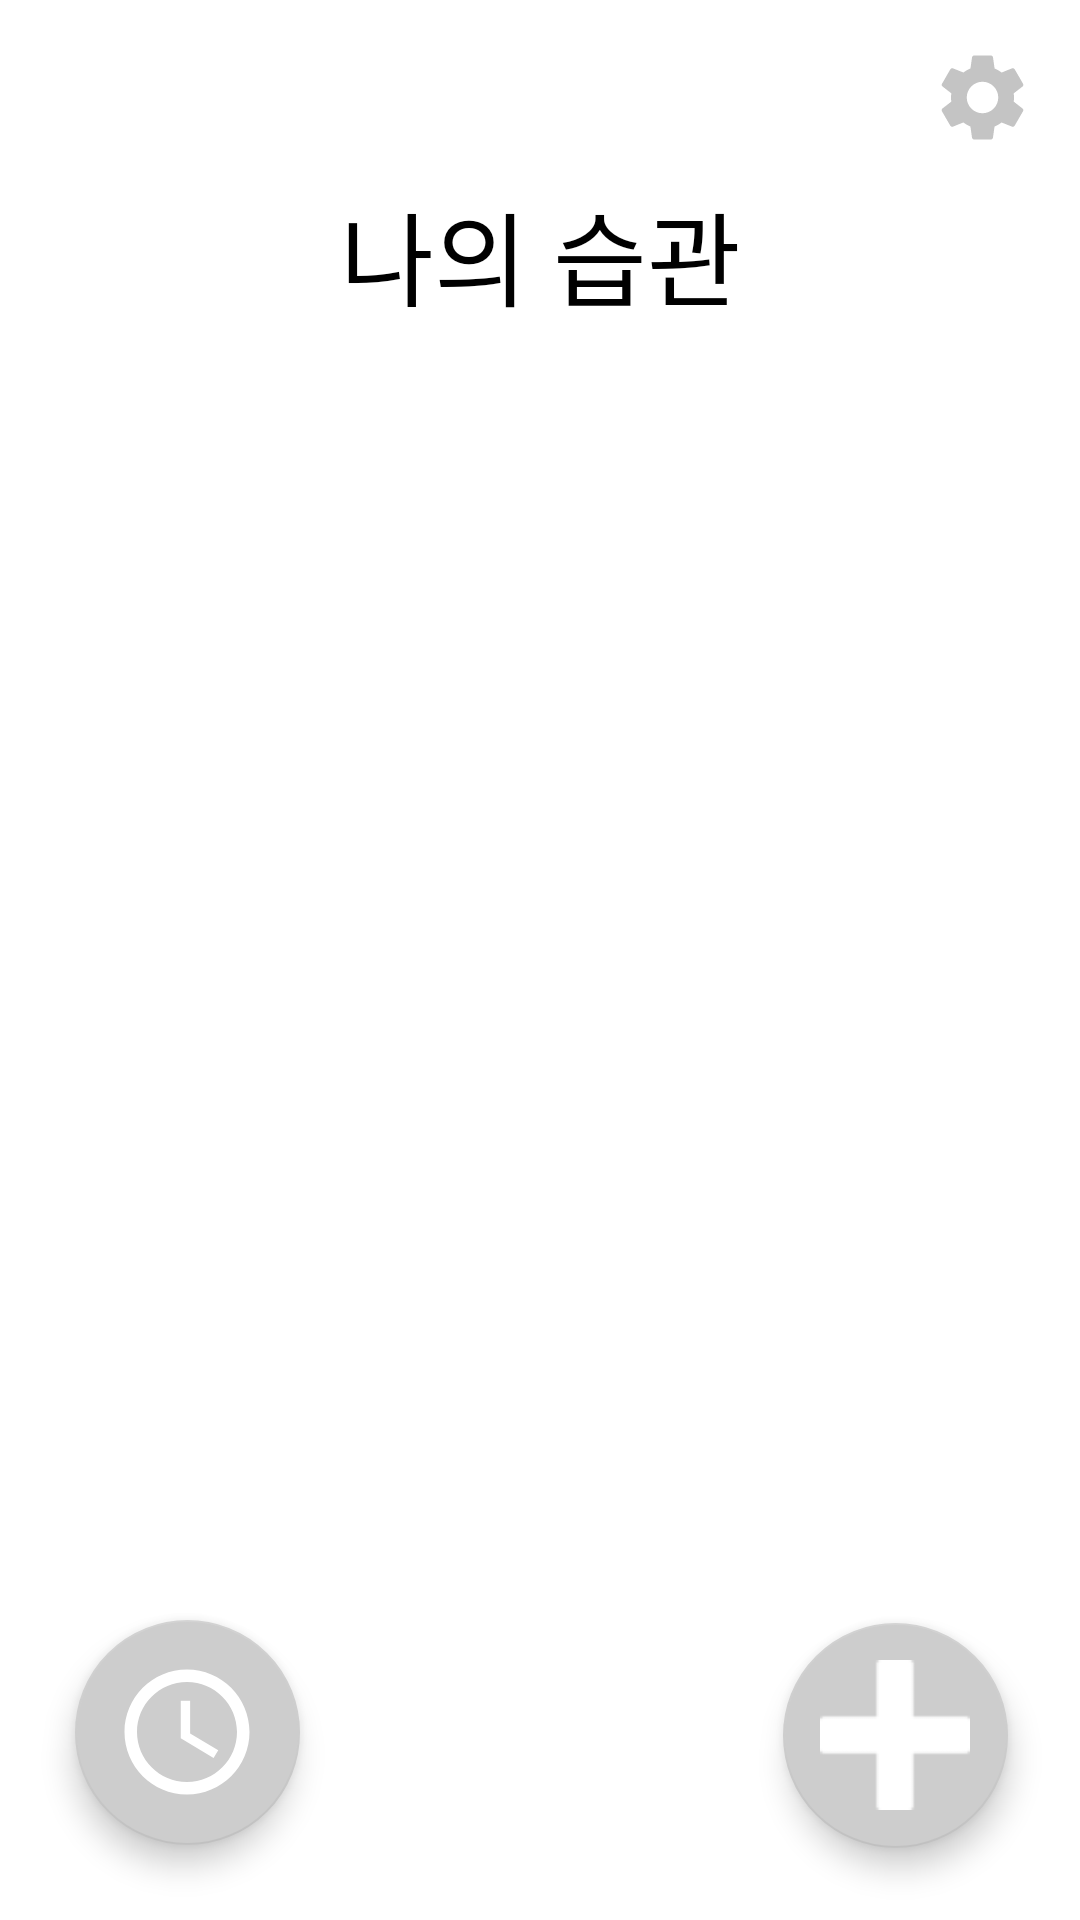

Named icons in this screenshot (1080w x 1920h) and their bounding boxes, BBox(x1, y1, x2, y2):
clock: BBox(75, 1620, 300, 1845)
plus: BBox(783, 1623, 1008, 1848)
setup: BBox(942, 55, 1023, 140)
